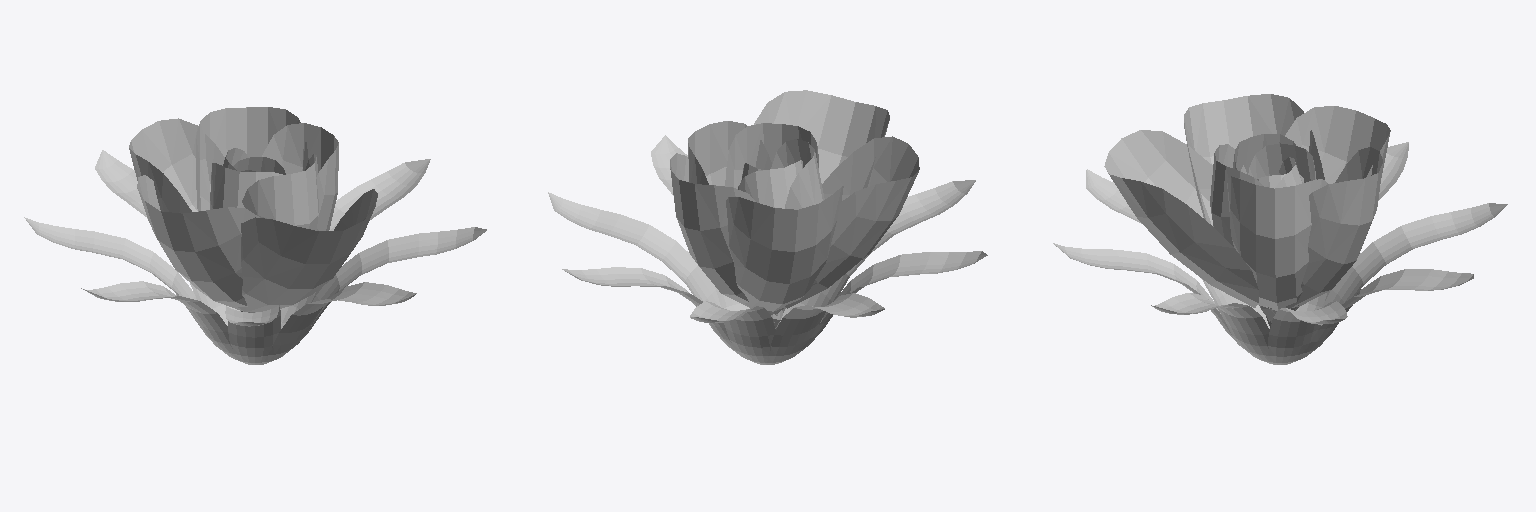
File: FlowerTopModel_03_seq_0027.obj
The picture shows the model from 3 angles: view 1: azimuth 30°, elevation 25°; view 2: azimuth 150°, elevation 25°; view 3: azimuth 270°, elevation 25°; orthographic projection.
Visible parts, largest first — view 1: FlowerTopModel_03; view 2: FlowerTopModel_03; view 3: FlowerTopModel_03.
Part boxes in pixels (left/top/right/bottom): FlowerTopModel_03: left=24, top=107, right=486, bottom=364; FlowerTopModel_03: left=548, top=90, right=987, bottom=364; FlowerTopModel_03: left=1053, top=94, right=1507, bottom=364.
Bounding box in the file's own units: 700 × 360 × 700.